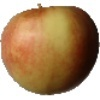apple: (1, 5, 100, 96)
